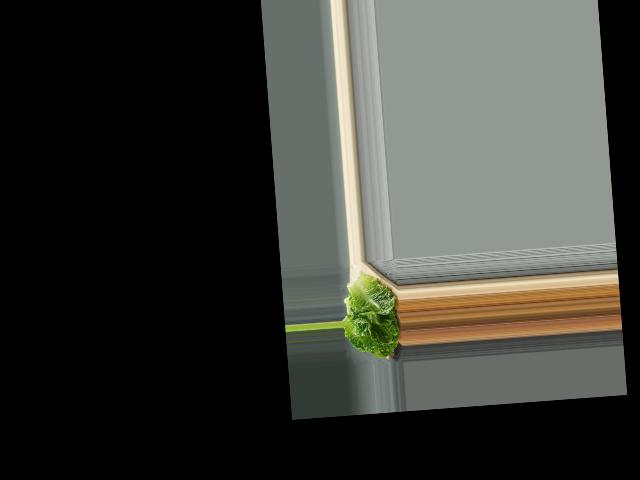lettuce: (339, 271, 403, 363)
